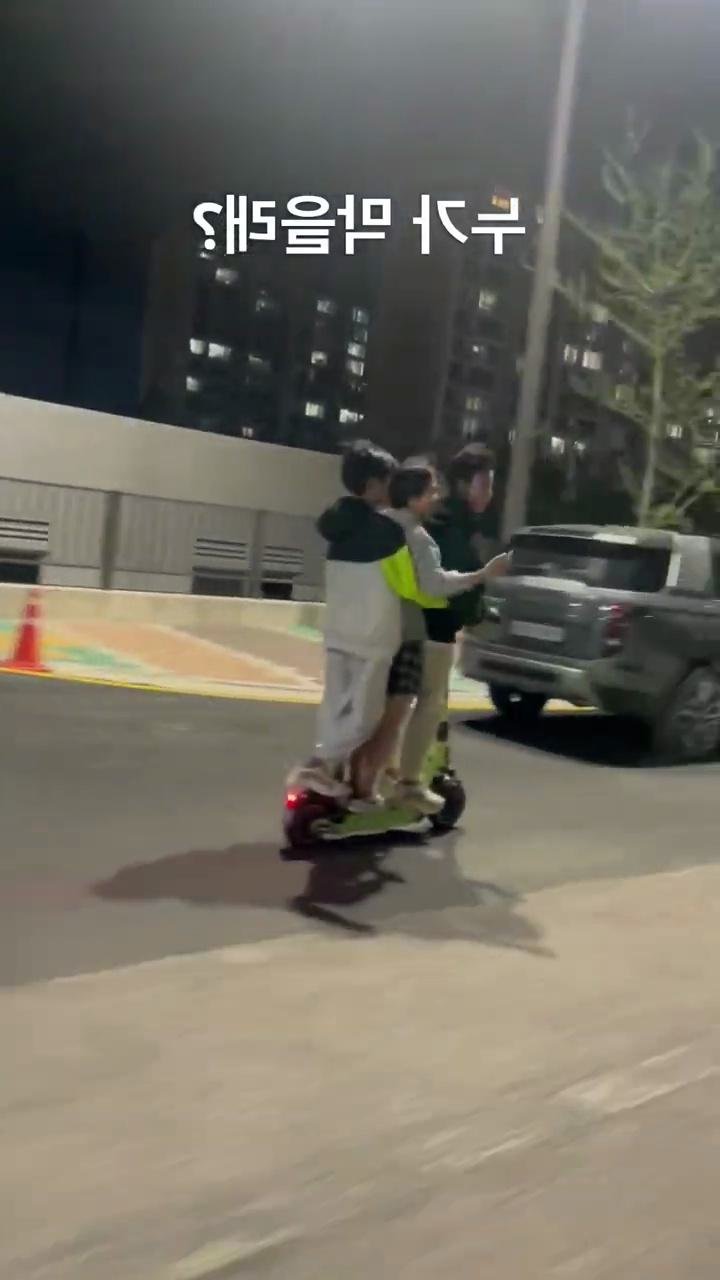multiple: (268, 438, 514, 865)
